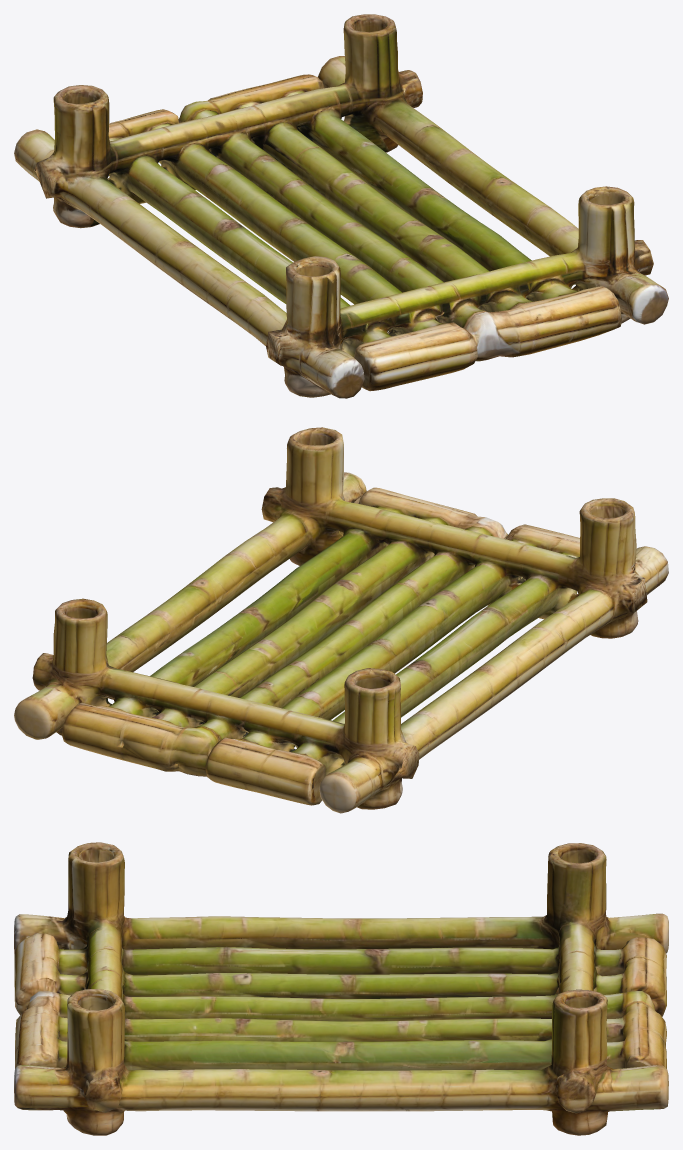
The model's file is f0a4af0e-56a1-47c8-97ec-bc2acbff3315.glb.
3 renders of one model, top to bottom at view 1: azimuth 30°, elevation 25°; view 2: azimuth 150°, elevation 25°; view 3: azimuth 270°, elevation 25°, orthographic. The views are drawn at different scales.
Size of the model in its own units: 1.35 by 0.4286 by 2.
1 material, 1 textured.
